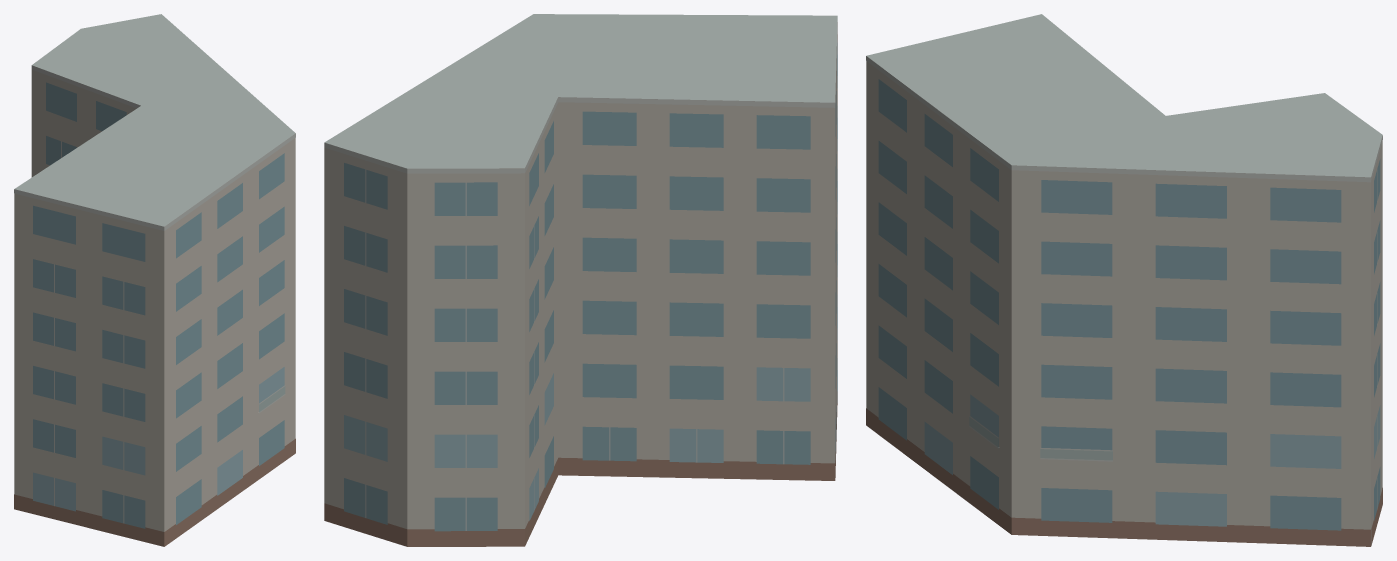
Rendered from survey-upis-32870872.glb.
3 renders of one model, left to right at view 1: azimuth 30°, elevation 25°; view 2: azimuth 150°, elevation 25°; view 3: azimuth 270°, elevation 25°, orthographic. The views are drawn at different scales.
Visible parts, largest first — view 1: survey-upis-32870872.tmp; view 2: survey-upis-32870872.tmp; view 3: survey-upis-32870872.tmp.
Part boxes in pixels (x1=…): survey-upis-32870872.tmp: x1=14, y1=14, x2=295, y2=546; survey-upis-32870872.tmp: x1=324, y1=14, x2=837, y2=546; survey-upis-32870872.tmp: x1=866, y1=14, x2=1382, y2=546.
Bounding box in the file's own units: 17.26 × 18.2 × 23.07.
